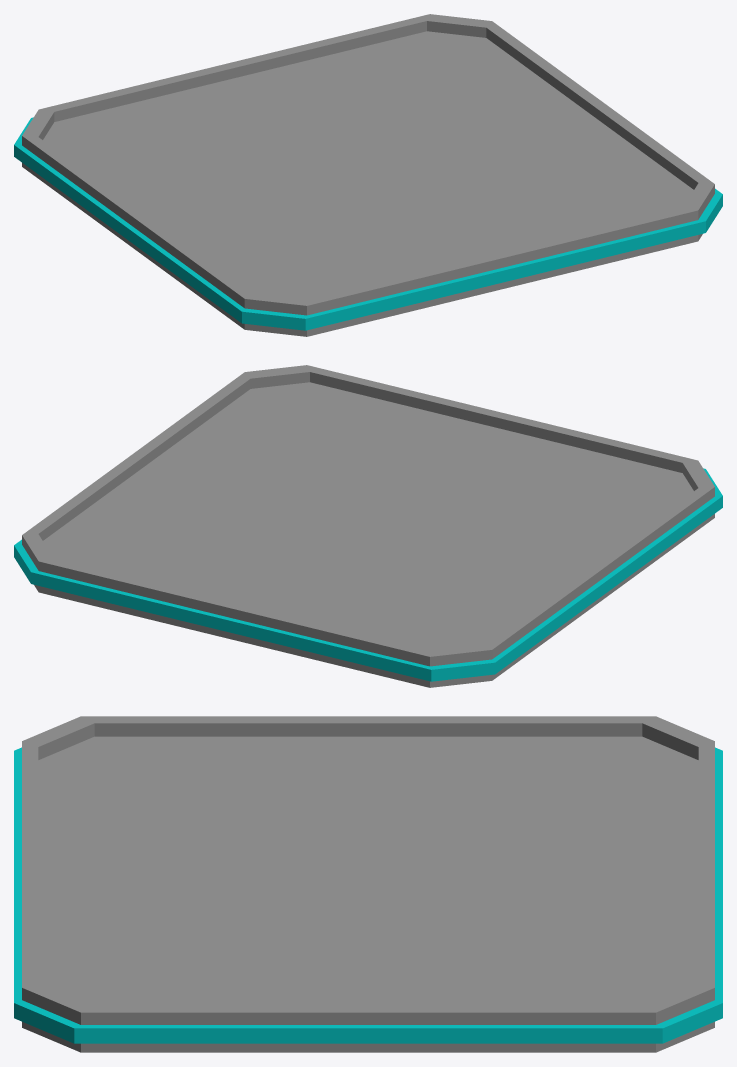
File: MSH_PlataformaCuadrado.FBX
3 views of the same model, one above another, from view 1: azimuth 30°, elevation 25°; view 2: azimuth 150°, elevation 25°; view 3: azimuth 270°, elevation 25° (orthographic). The views are drawn at different scales.
Parts seen in each view (by area): view 1: P-CuadradoCentro, P-CuadradoBorde, P-CuadradoNeon; view 2: P-CuadradoCentro, P-CuadradoBorde, P-CuadradoNeon; view 3: P-CuadradoCentro, P-CuadradoBorde, P-CuadradoNeon.
Part boxes in pixels (x1,y1,x2,y2): P-CuadradoCentro: [62, 41, 674, 298]; P-CuadradoBorde: [22, 14, 714, 336]; P-CuadradoNeon: [14, 117, 722, 330]; P-CuadradoCentro: [62, 392, 674, 649]; P-CuadradoBorde: [22, 365, 714, 687]; P-CuadradoNeon: [14, 468, 722, 681]; P-CuadradoCentro: [62, 746, 674, 1005]; P-CuadradoBorde: [22, 716, 714, 1052]; P-CuadradoNeon: [14, 747, 722, 1043].
Size of the model in its own units: 826 by 50.87 by 816.
